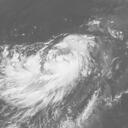cyclone: (2, 33, 103, 111)
